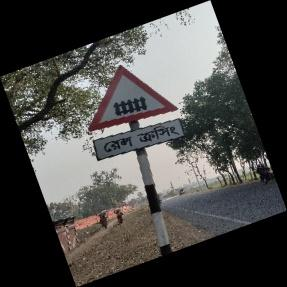Rail-crossing: (87, 65, 184, 163)
